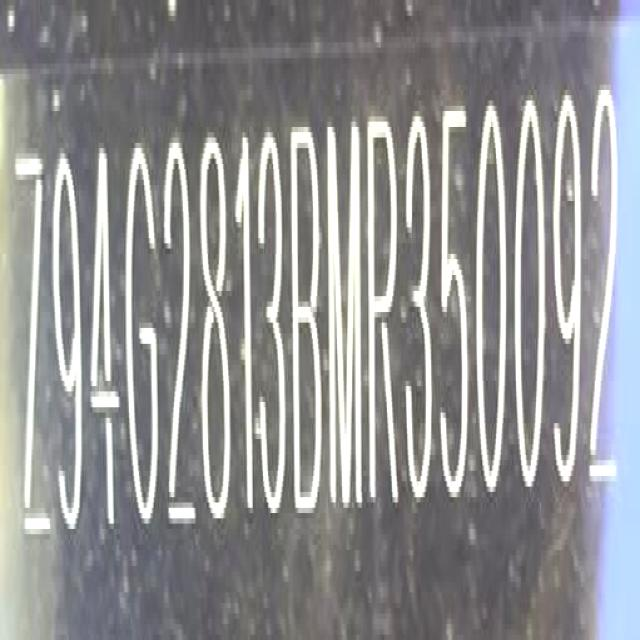0: (512, 86, 547, 498), (474, 94, 508, 500)
1: (232, 124, 256, 519)
2: (161, 129, 197, 525), (590, 68, 622, 490)
3: (257, 125, 288, 527), (406, 104, 434, 505)
4: (86, 133, 122, 529)
5: (439, 102, 472, 495)
8: (197, 127, 235, 519)
9: (50, 141, 84, 543), (552, 84, 583, 492)
B: (290, 120, 323, 519)
G: (124, 137, 158, 521)
M: (326, 118, 366, 517)
R: (365, 110, 400, 509)
Z: (14, 141, 54, 558)
